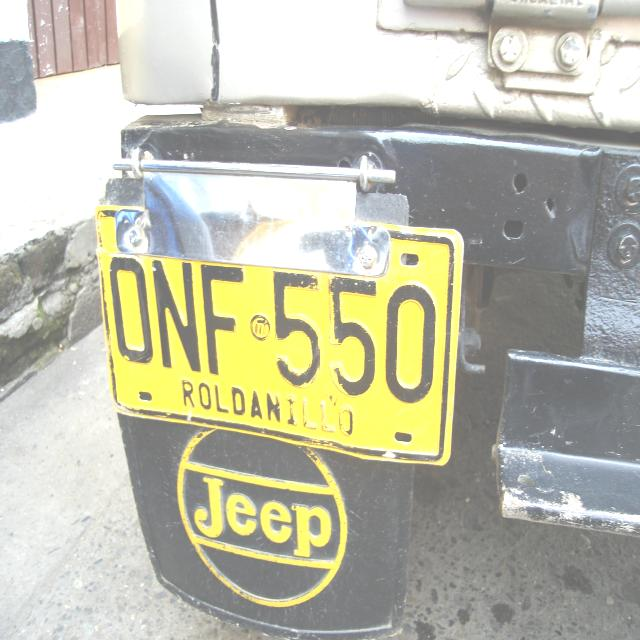placa: (88, 193, 467, 472)
